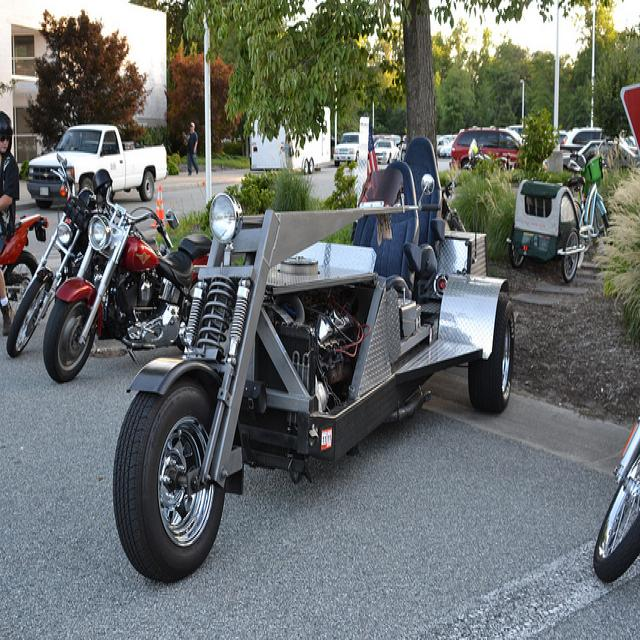motor: (103, 129, 514, 594), (40, 170, 211, 382), (7, 161, 102, 357), (591, 420, 640, 583), (1, 213, 49, 322)
